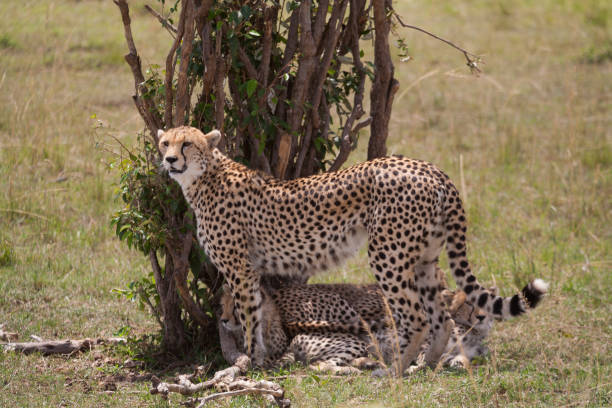cheetah: (147, 123, 230, 196)
